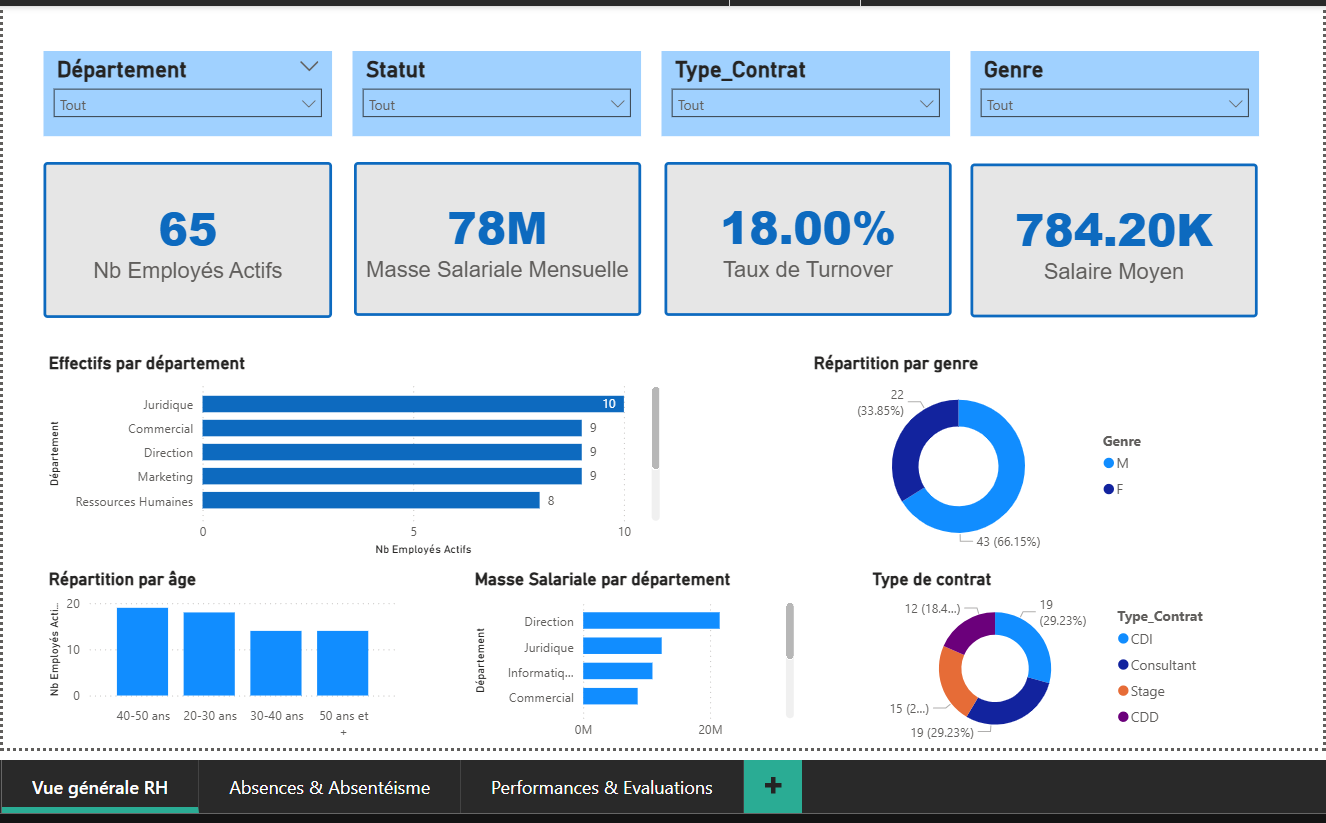

This screenshot's page, from the dashboard's own definition file:
{"tool":"powerbi","page":{"name":"Vue générale RH","canvas":[1280,720],"ordinal":0},"visuals":[{"type":"slicer","fields":{"Values":["Employes.Département"]},"box":[38.9,43.8,279.7,82.7],"z":0},{"type":"slicer","fields":{"Values":["Employes.Statut"]},"box":[338.9,43.8,279.7,82.7],"z":1000},{"type":"slicer","fields":{"Values":["Employes.Type_Contrat"]},"box":[638.8,43.8,279.7,82.7],"z":2000},{"type":"slicer","fields":{"Values":["Employes.Genre"]},"box":[938.7,43.8,279.7,82.7],"z":3000},{"type":"card","fields":{"Values":["_Mesures.Nb Employés Actifs"]},"box":[38.7,151.2,280.2,151.2],"z":4000},{"type":"card","fields":{"Values":["_Mesures.Taux de Turnover"]},"box":[641.5,151.2,278.4,149.3],"z":5000},{"type":"card","fields":{"Values":["_Mesures.Salaire Moyen"]},"box":[938.3,153,278.4,149.3],"z":6000},{"type":"card","fields":{"Values":["_Mesures.Masse Salariale Mensuelle"]},"box":[341,151.2,278.4,149.3],"z":7000},{"type":"clusteredBarChart","title":"Effectifs par département","fields":{"Category":["Employes.Département"],"Y":["_Mesures.Nb Employés Actifs"]},"box":[38.7,335.5,602.8,200.9],"z":8000},{"type":"donutChart","title":"Répartition par genre","fields":{"Category":["Employes.Genre"],"Y":["_Mesures.Nb Employés Actifs"]},"box":[781.6,335.5,348.4,200.9],"z":9000},{"type":"clusteredColumnChart","title":"Répartition par âge","fields":{"Category":["Employes.Tranche Age"],"Y":["_Mesures.Nb Employés Actifs"]},"box":[39.8,546.1,347.9,173.9],"z":10000},{"type":"clusteredBarChart","title":"Masse Salariale par département","fields":{"Category":["Employes.Département"],"Y":["_Mesures.Masse Salariale Mensuelle"]},"box":[453,546.1,319.7,173.9],"z":11000},{"type":"donutChart","title":"Type de contrat","fields":{"Category":["Employes.Type_Contrat"],"Y":["_Mesures.Nb Employés Actifs"]},"box":[838.2,546.1,347.9,173.9],"z":12000}]}

Visuals, with their boxes on the page's 1280x720 design canvas (x1, y1, x2, y2). These are canvas units, not pixel positions in the 1326x823 screenshot, which may show the page scaled, cropped or inside an application window:
slicer - Employes.Département: {"x1": 39, "y1": 44, "x2": 319, "y2": 126}
slicer - Employes.Statut: {"x1": 339, "y1": 44, "x2": 619, "y2": 126}
slicer - Employes.Type_Contrat: {"x1": 639, "y1": 44, "x2": 918, "y2": 126}
slicer - Employes.Genre: {"x1": 939, "y1": 44, "x2": 1218, "y2": 126}
card - _Mesures.Nb Employés Actifs: {"x1": 39, "y1": 151, "x2": 319, "y2": 302}
card - _Mesures.Taux de Turnover: {"x1": 642, "y1": 151, "x2": 920, "y2": 300}
card - _Mesures.Salaire Moyen: {"x1": 938, "y1": 153, "x2": 1217, "y2": 302}
card - _Mesures.Masse Salariale Mensuelle: {"x1": 341, "y1": 151, "x2": 619, "y2": 300}
"Effectifs par département" clusteredBarChart: {"x1": 39, "y1": 336, "x2": 642, "y2": 536}
"Répartition par genre" donutChart: {"x1": 782, "y1": 336, "x2": 1130, "y2": 536}
"Répartition par âge" clusteredColumnChart: {"x1": 40, "y1": 546, "x2": 388, "y2": 720}
"Masse Salariale par département" clusteredBarChart: {"x1": 453, "y1": 546, "x2": 773, "y2": 720}
"Type de contrat" donutChart: {"x1": 838, "y1": 546, "x2": 1186, "y2": 720}
